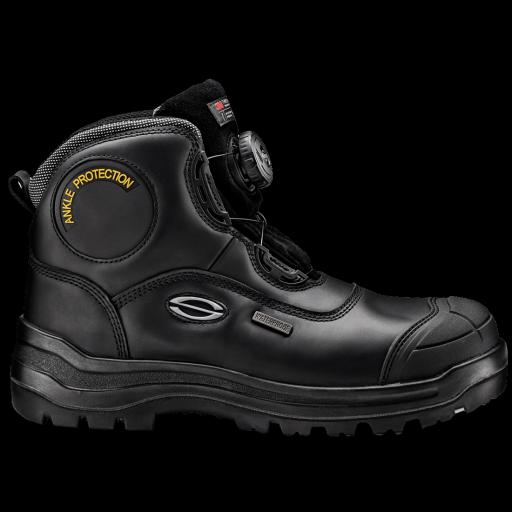safety_boots: (6, 53, 512, 453)
